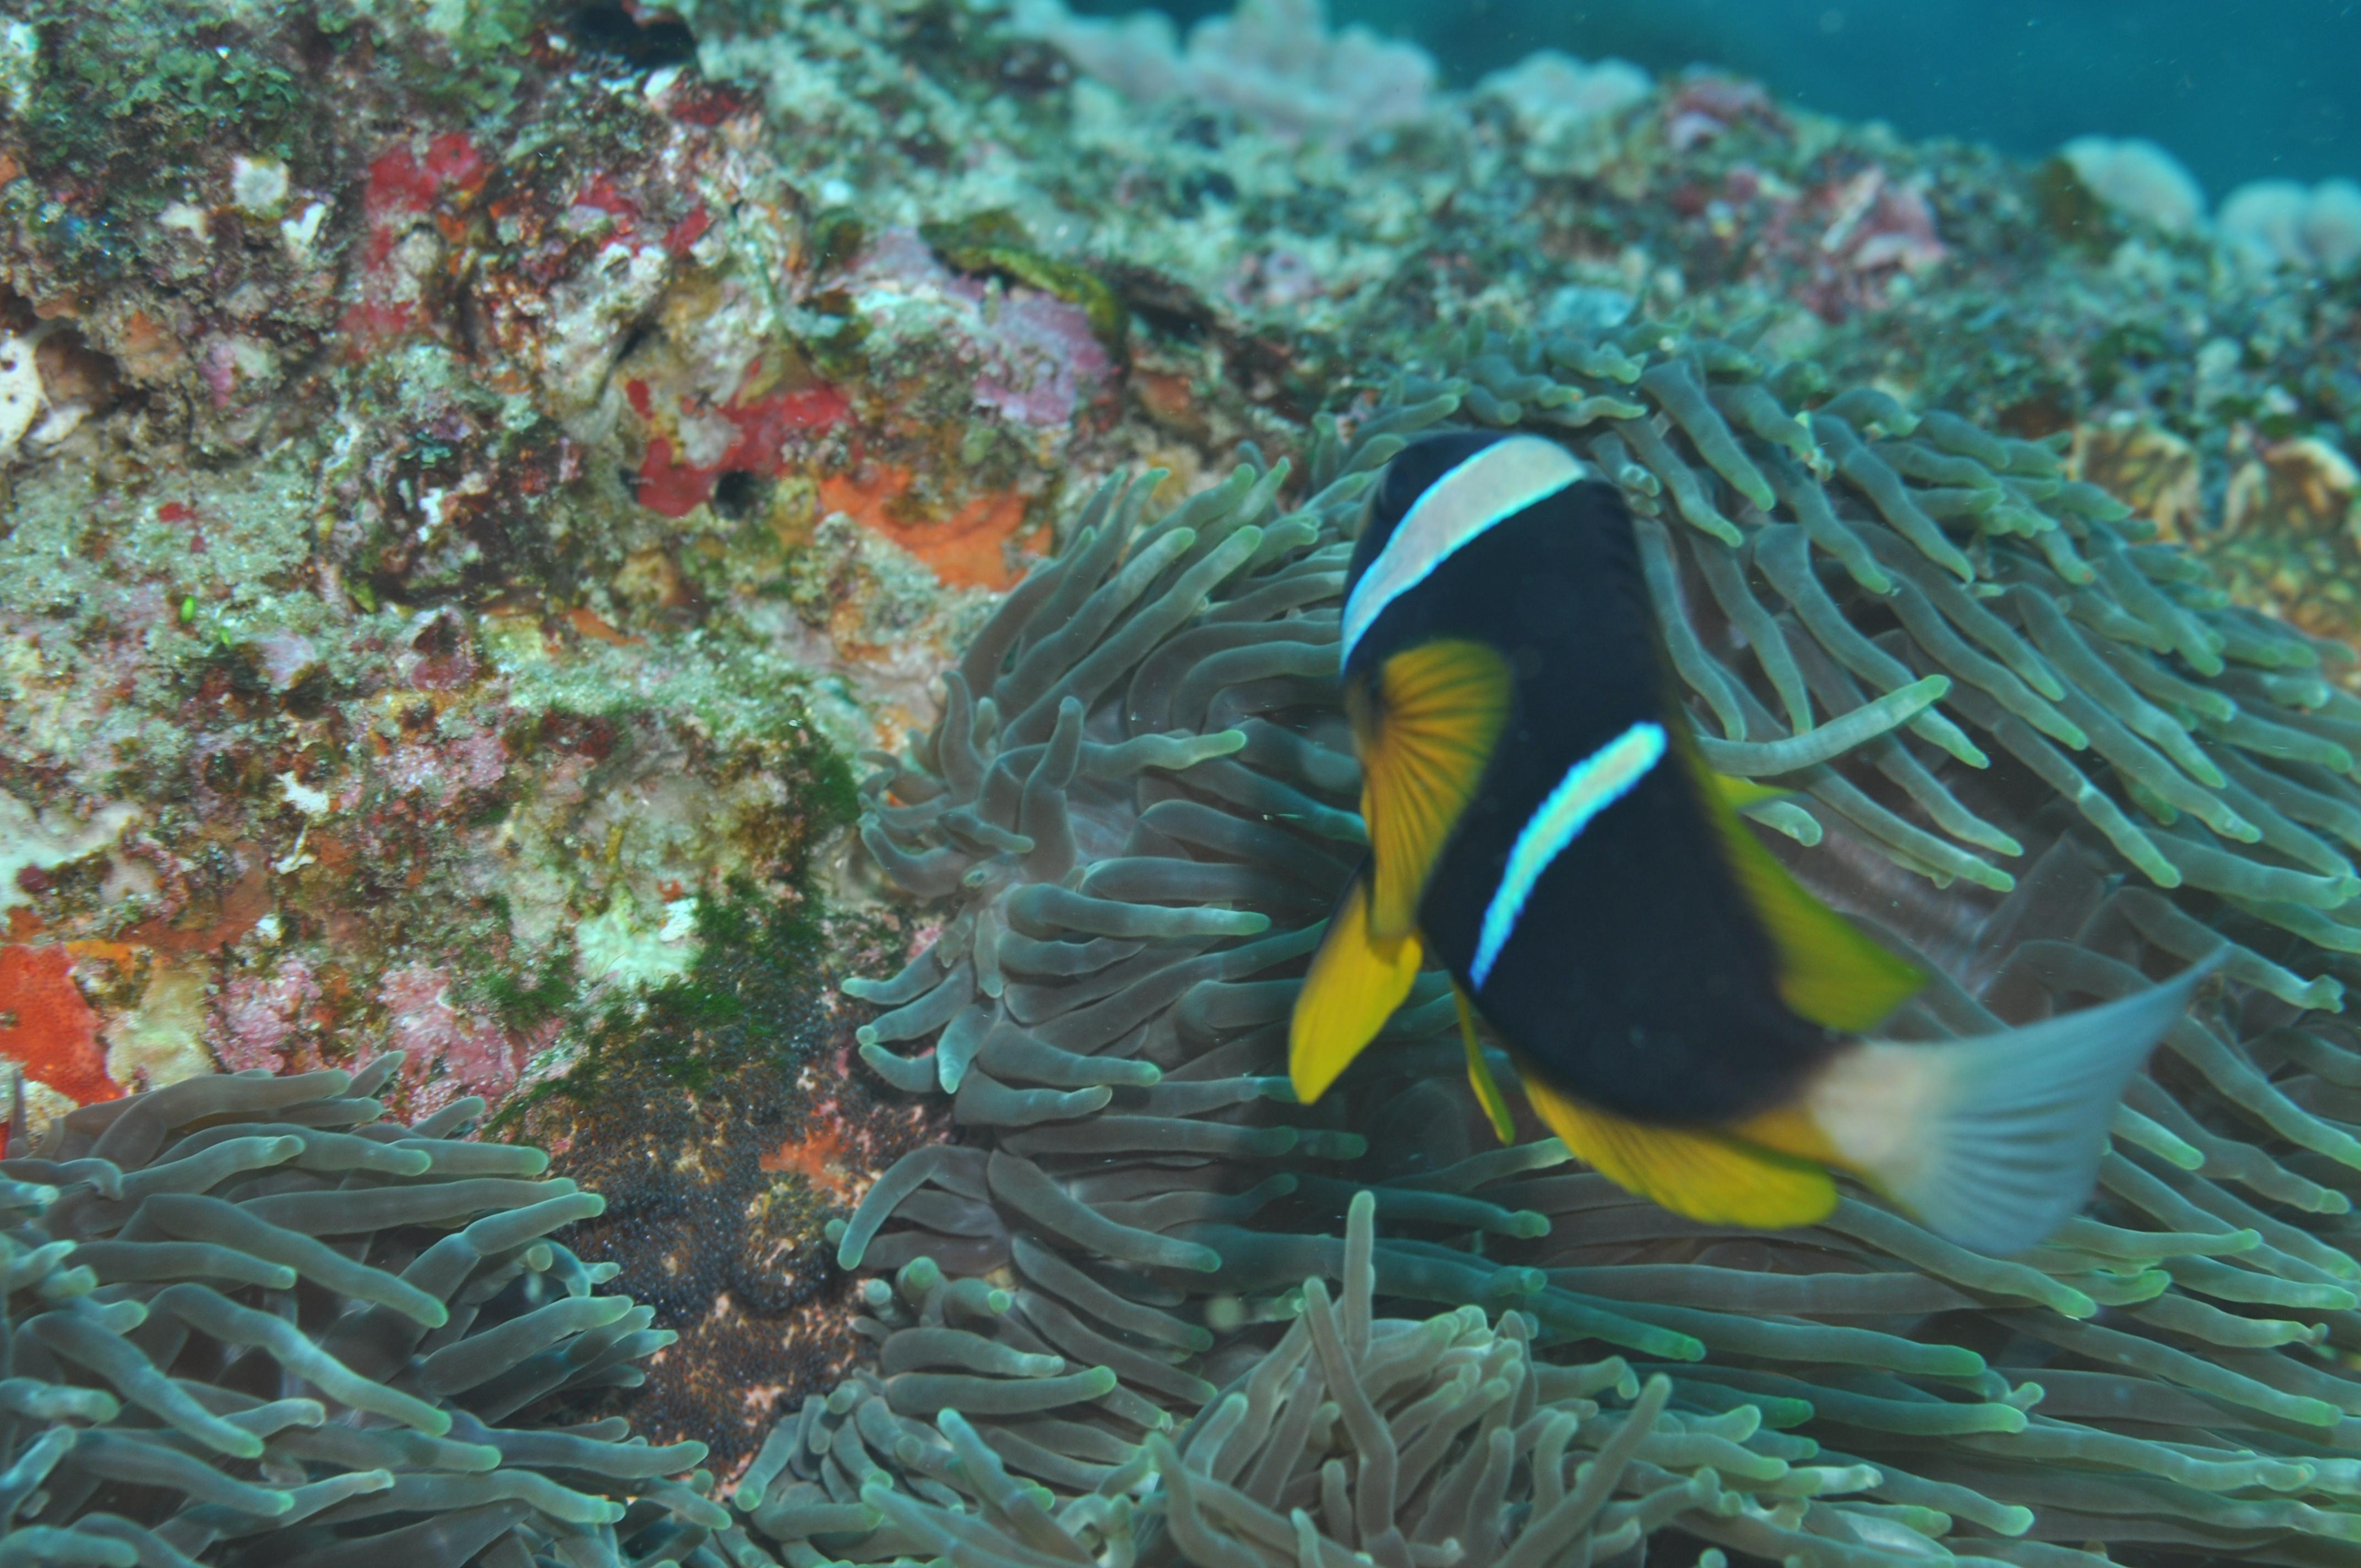Fish: (1215, 360, 2237, 1358)
